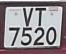0: (45, 26, 58, 46)
2: (33, 26, 46, 47)
5: (21, 26, 33, 47)
7: (8, 25, 21, 48)
T: (33, 8, 48, 27)
V: (20, 9, 36, 27)
